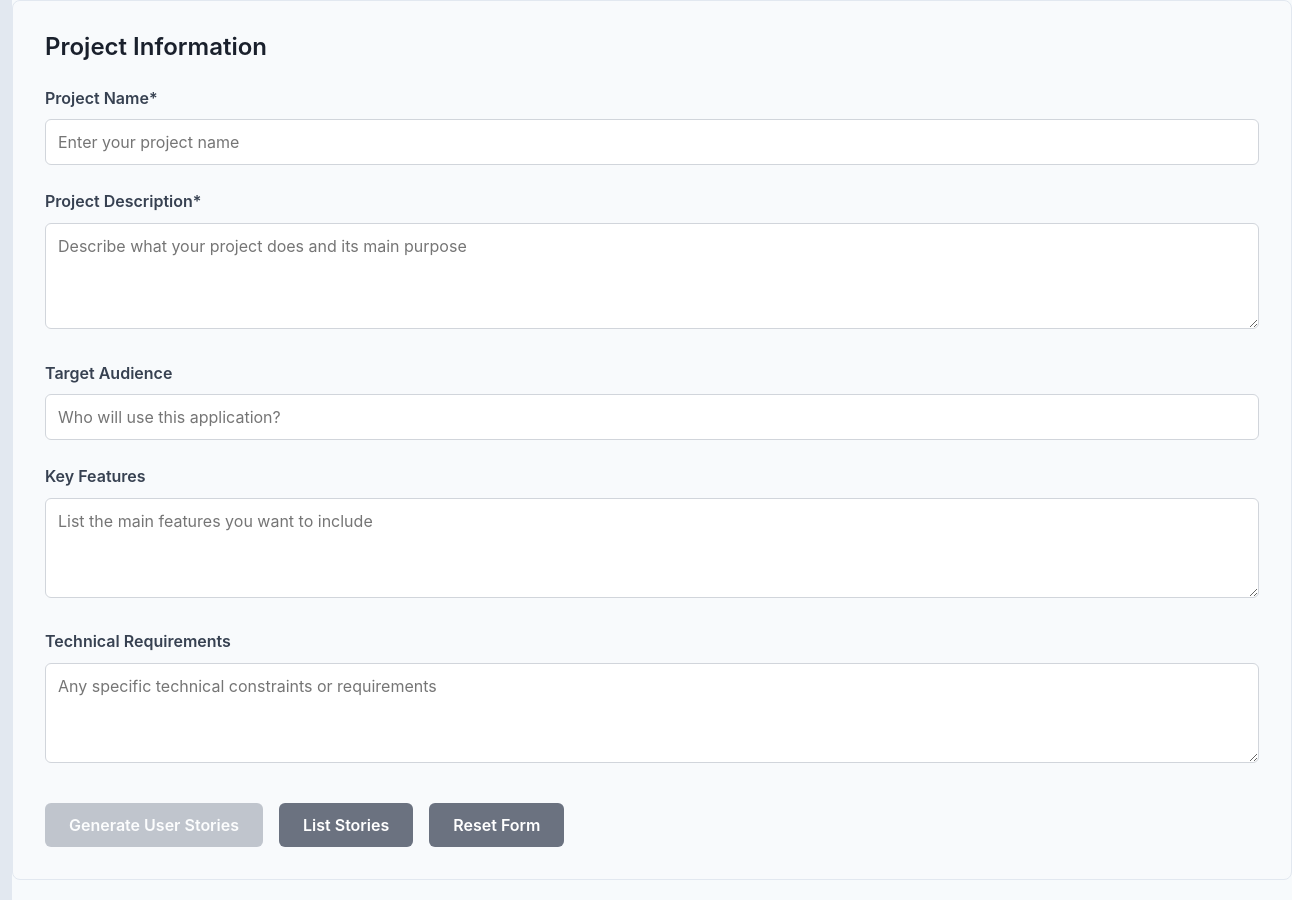
Scenario: StoryGenerator Component › Form Submission - Success Cases › displays all story details correctly
Step 1. Type "Test Project" into the field labelled "Project Name*" → (652, 142), box [45,119,1259,165]
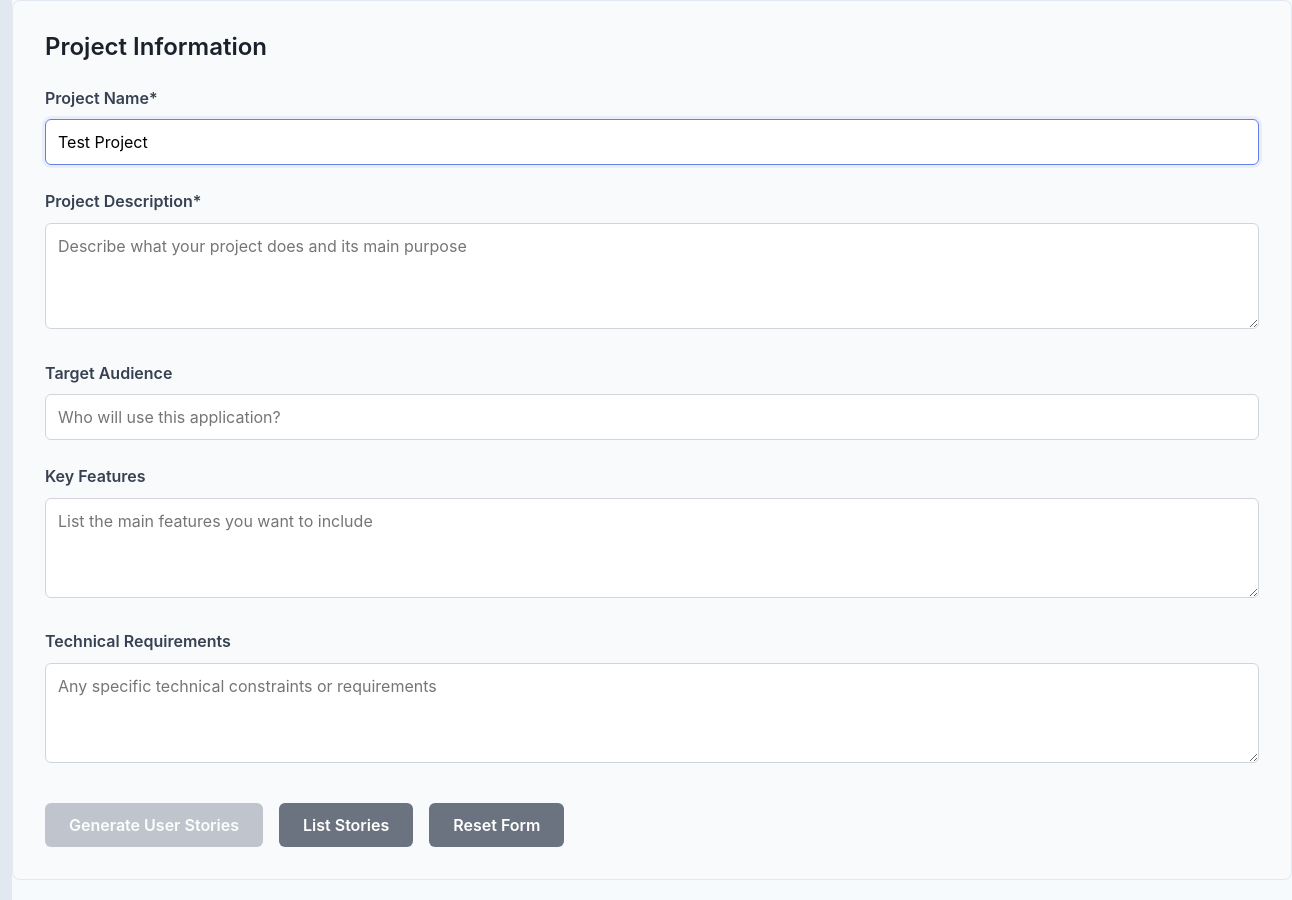
Step 2. Type "A comprehensive test project for story generation" into the text box labelled "Project Description*" → (652, 276), box [45,223,1259,329]
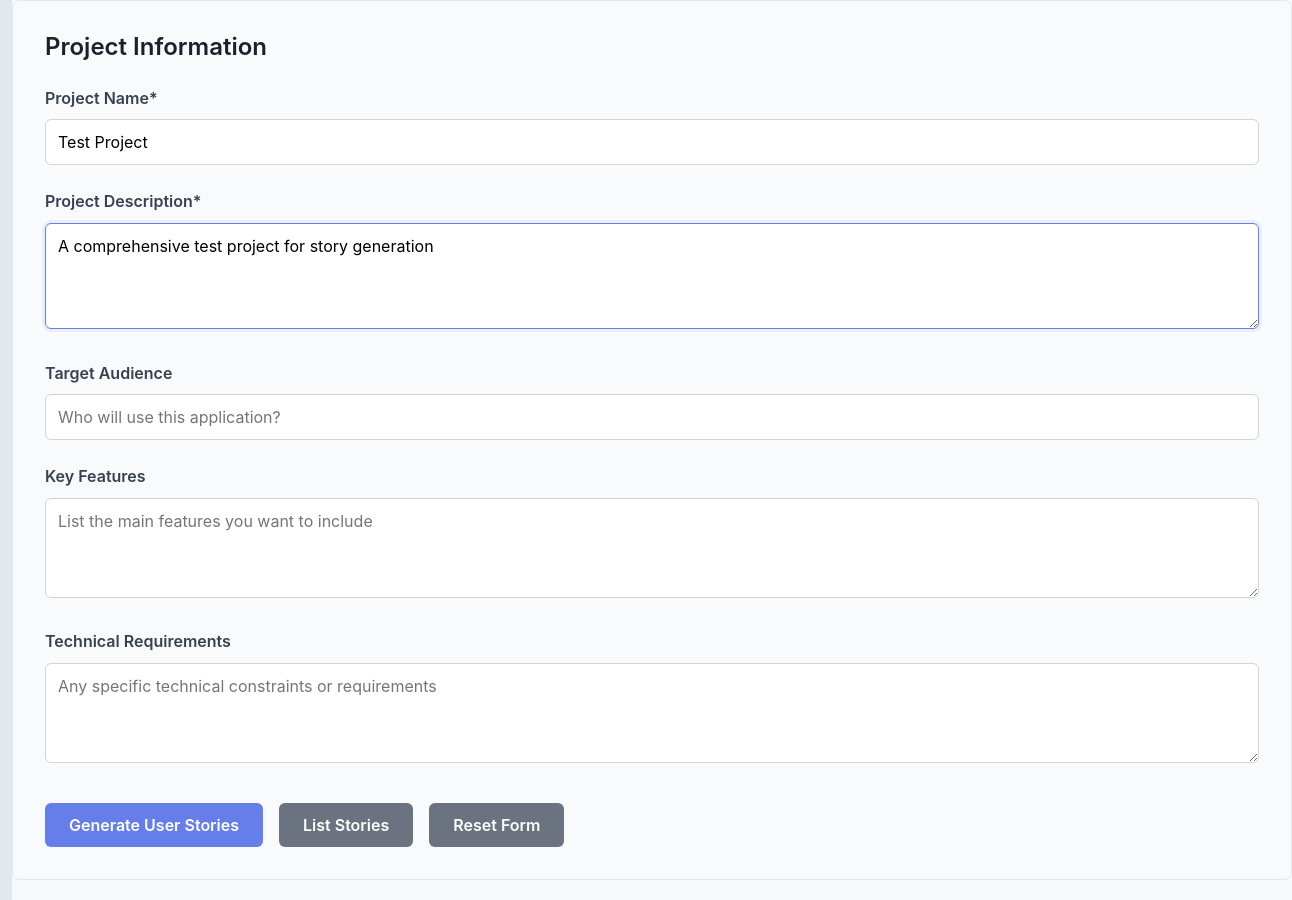
Step 3. Type "Developers and QA engineers" into the field with id "targetAudience" → (652, 417), box [45,394,1259,440]
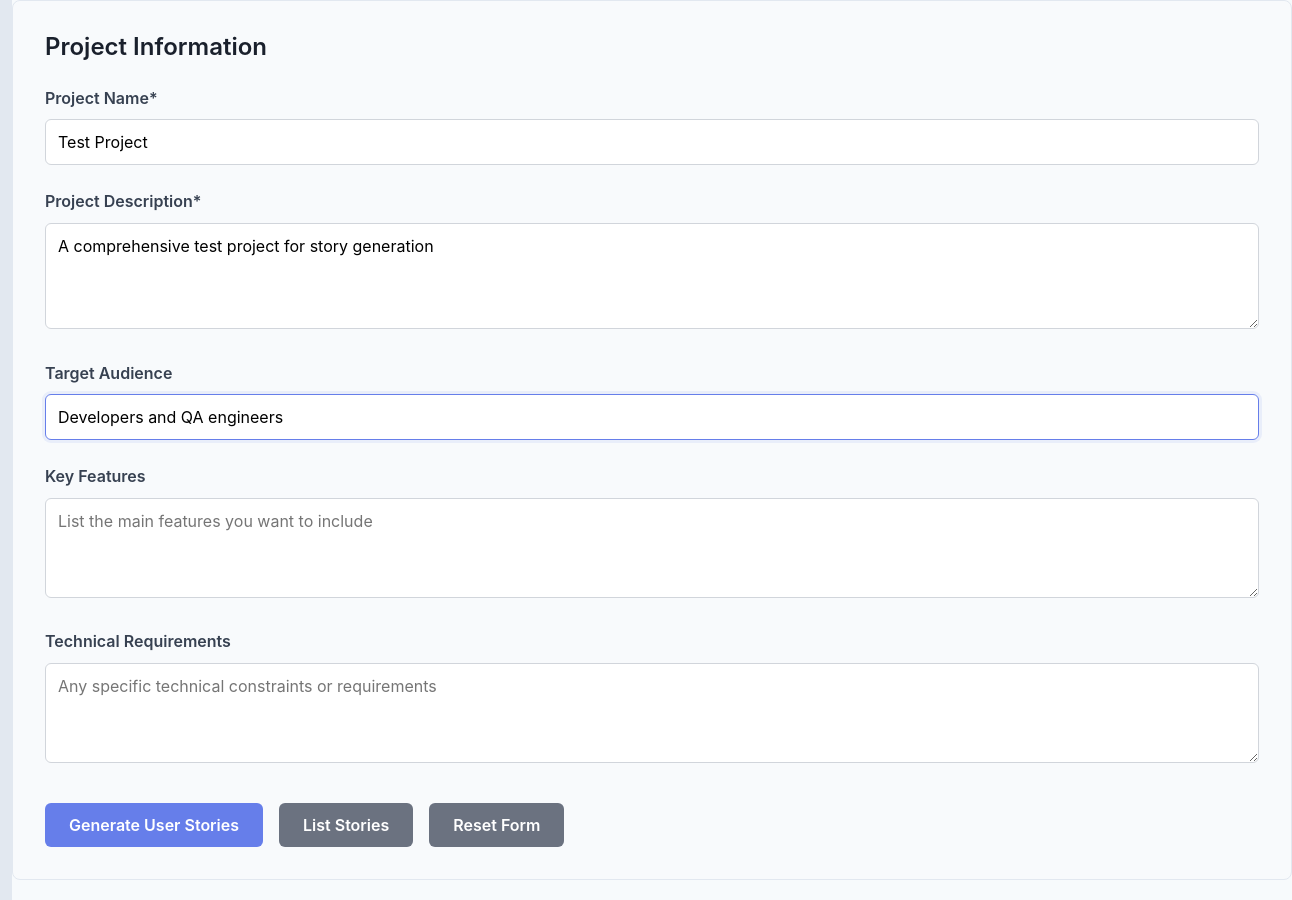
Step 4. Type "User authentication, Story generation, API integration" into the text box with id "keyFeatures" → (652, 548), box [45,498,1259,598]
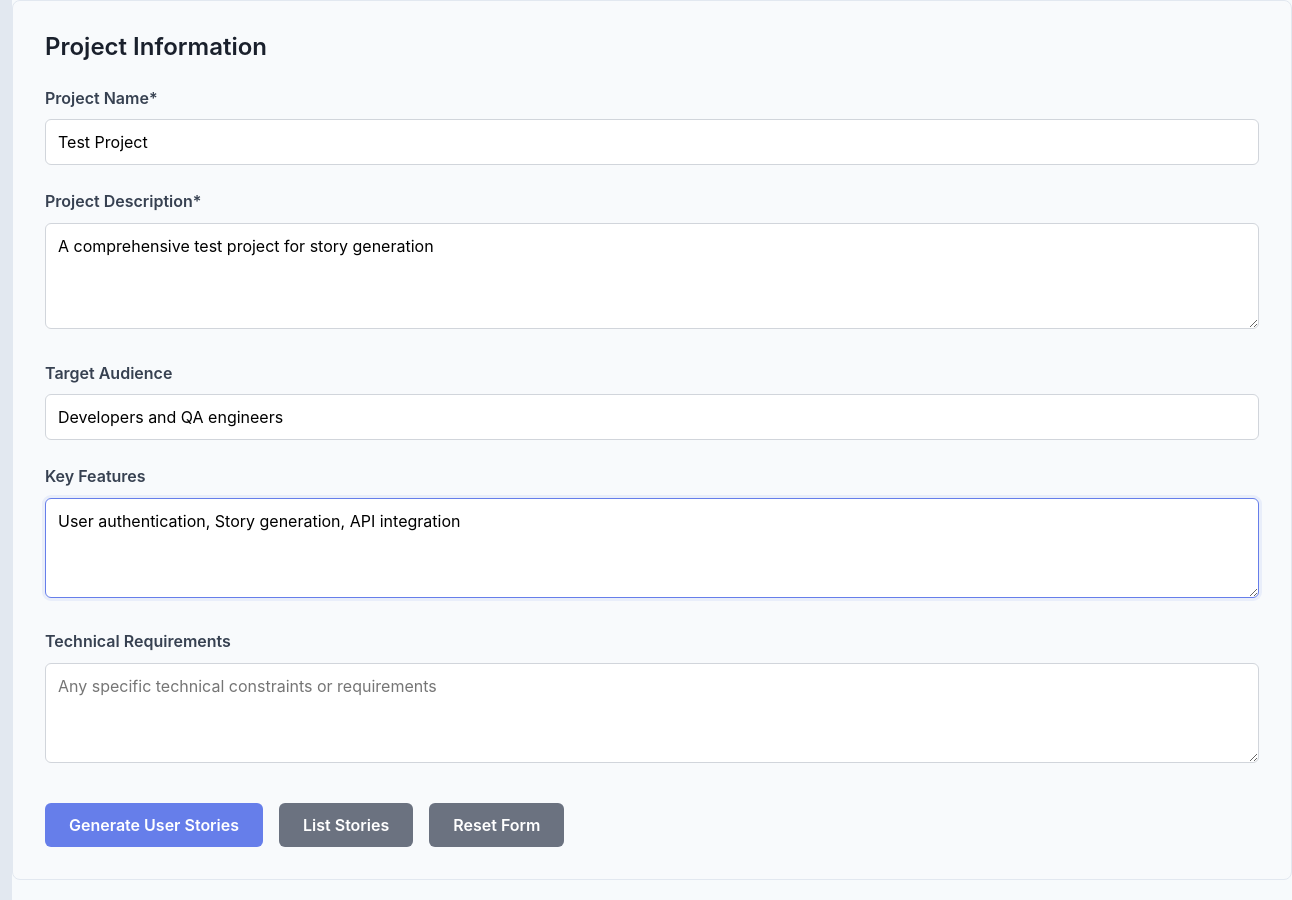
Step 5. Type "React, FastAPI, PostgreSQL" into the text box with id "technicalRequirements" → (652, 713), box [45,663,1259,763]
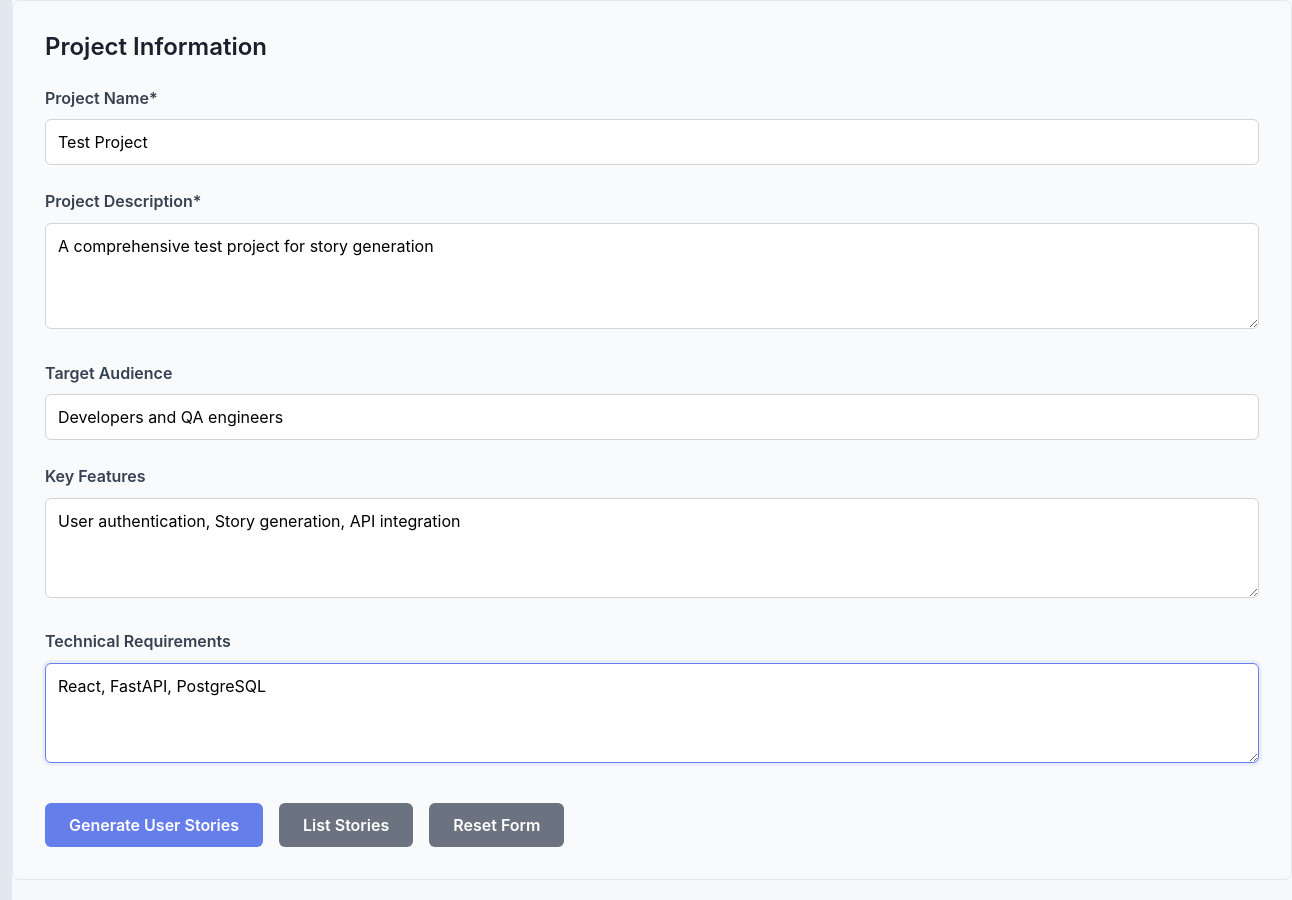
Step 6. Click the button "Generate User Stories" → (154, 824), box [45,802,263,846]
(page scrolled)
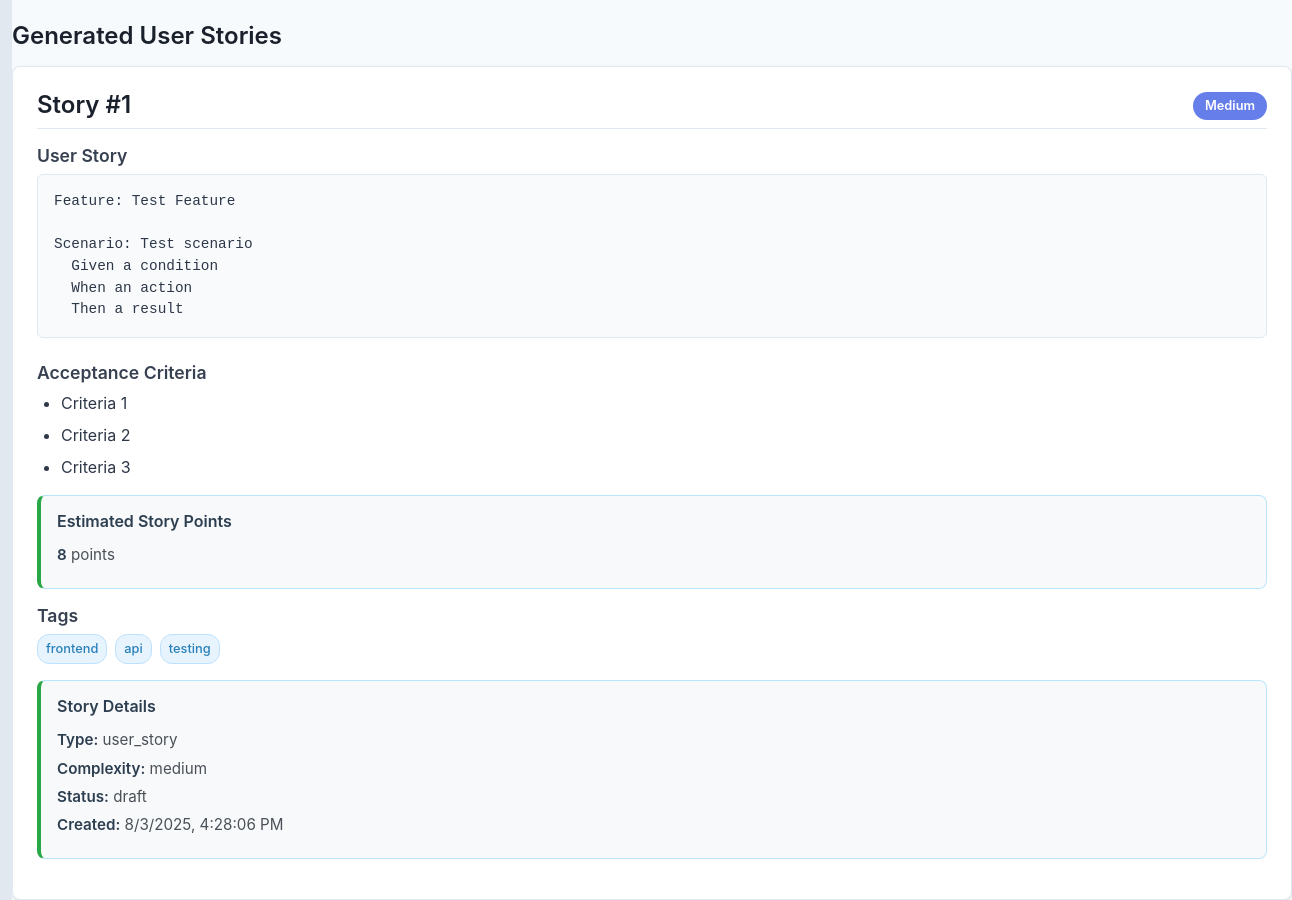
Result: the heading "Generated User Stories" is shown at [12,20,282,50]
Result: the text "Feature: Test Feature" is shown at [54,193,253,317]
Result: the list item "Criteria 1" is shown at [61,393,127,413]
